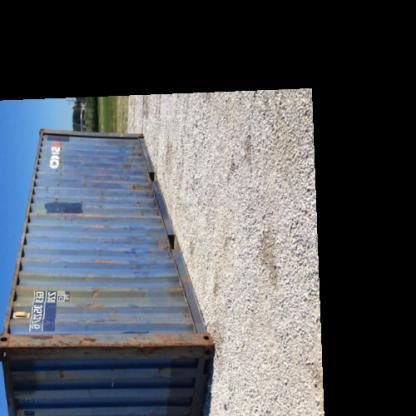Damage: (102, 326, 204, 358), (12, 326, 96, 350), (122, 174, 154, 220), (119, 224, 141, 282), (76, 285, 100, 313), (90, 178, 107, 212), (73, 267, 114, 281), (150, 229, 172, 255), (52, 150, 60, 216), (165, 278, 185, 304), (51, 364, 70, 390), (82, 222, 114, 236), (93, 312, 127, 324), (146, 363, 170, 378), (125, 136, 141, 154), (116, 157, 132, 169), (72, 157, 84, 169)
